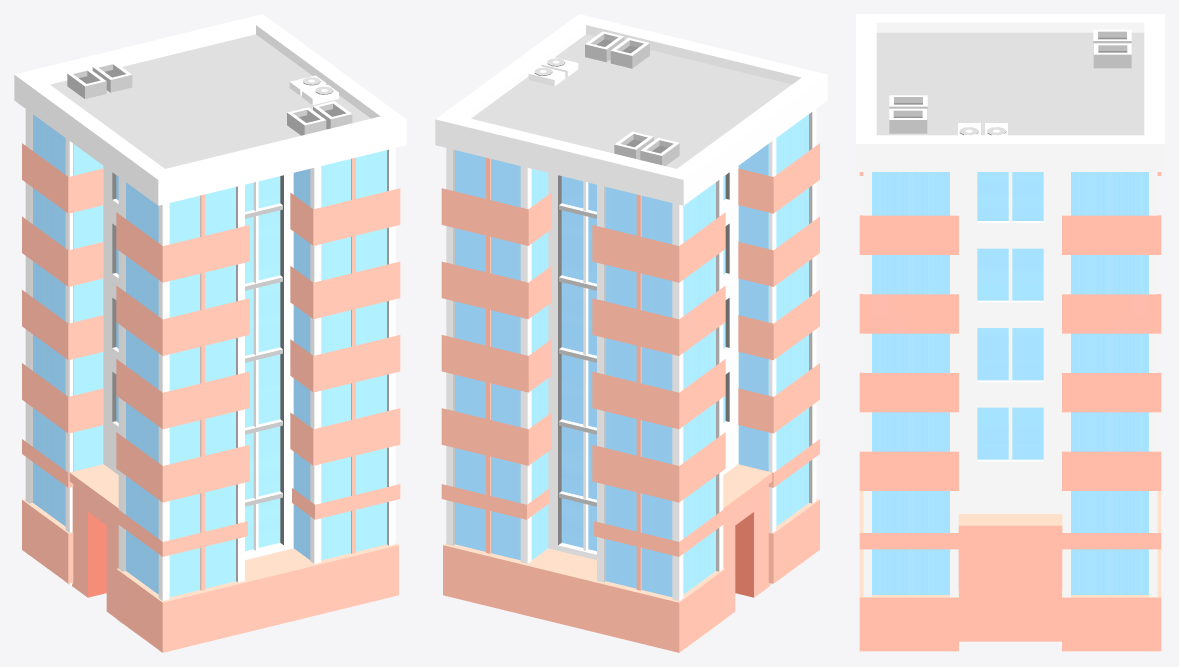
Rendered from tile_for_home_1x1.006 (6).glb.
3 renders of one model, left to right at view 1: azimuth 30°, elevation 25°; view 2: azimuth 150°, elevation 25°; view 3: azimuth 270°, elevation 25°, orthographic. The views are drawn at different scales.
Parts seen in each view (by area): view 1: apartment; view 2: apartment; view 3: apartment.
Part boxes in pixels (left/top/right/bottom): apartment: left=14, top=14, right=406, bottom=652; apartment: left=435, top=14, right=827, bottom=652; apartment: left=856, top=14, right=1164, bottom=652.
Bounding box in the file's own units: 5.95 × 11.07 × 5.97.
1 material, 1 textured.
